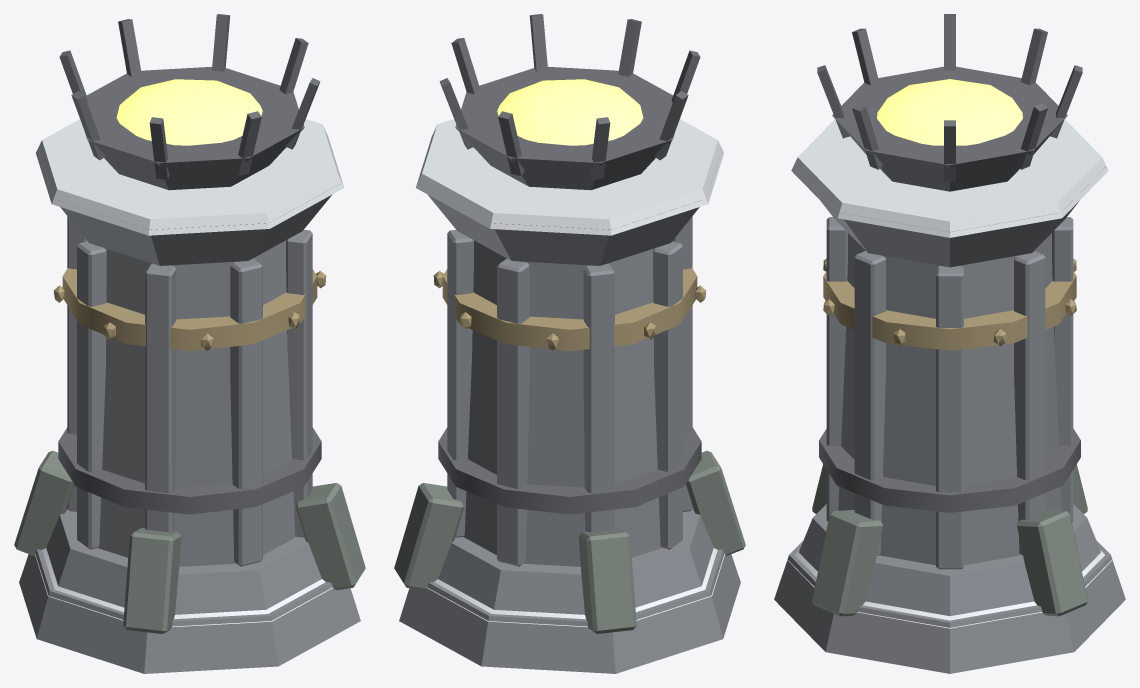
Rendered from gothic_brazier_pillar.glb.
3 renders of one model, left to right at view 1: azimuth 30°, elevation 25°; view 2: azimuth 150°, elevation 25°; view 3: azimuth 270°, elevation 25°, orthographic.
Parts seen in each view (by area): view 1: SM_Env_GothicBrazierPillar_01; view 2: SM_Env_GothicBrazierPillar_01; view 3: SM_Env_GothicBrazierPillar_01.
Boxes of the visible parts, x1,y1,x2,y2 form: SM_Env_GothicBrazierPillar_01: (14,14,365,673); SM_Env_GothicBrazierPillar_01: (394,14,745,673); SM_Env_GothicBrazierPillar_01: (774,14,1125,673).
Bounding box in the file's own units: 3.28 × 5.47 × 3.28.
